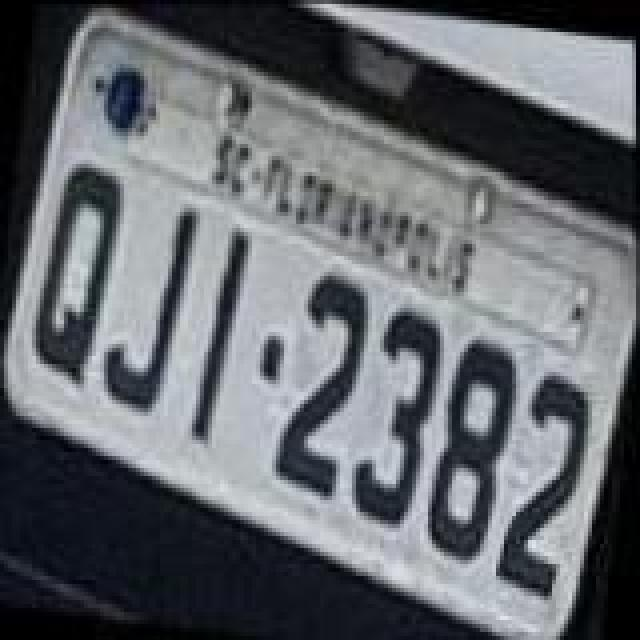1: (184, 222, 260, 450)
2: (268, 268, 380, 504), (490, 368, 598, 608)
3: (346, 300, 454, 532)
8: (416, 330, 528, 566)
J: (96, 198, 204, 414)
Q: (24, 158, 132, 394)
